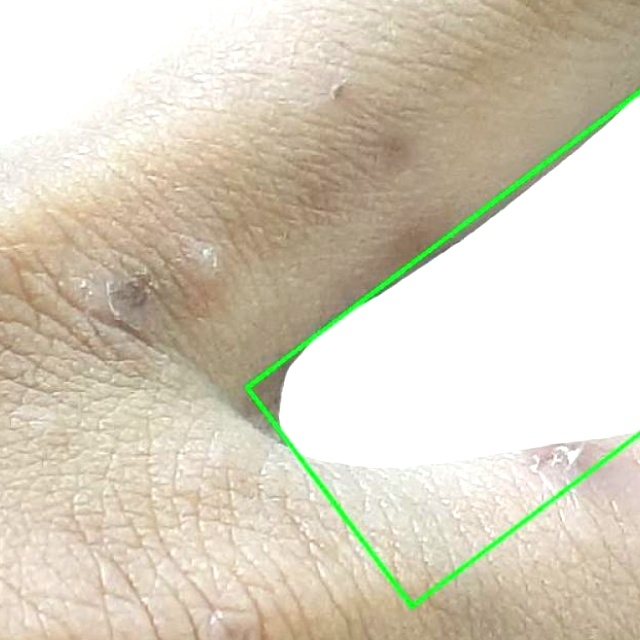Scabies: (203, 7, 639, 606)
